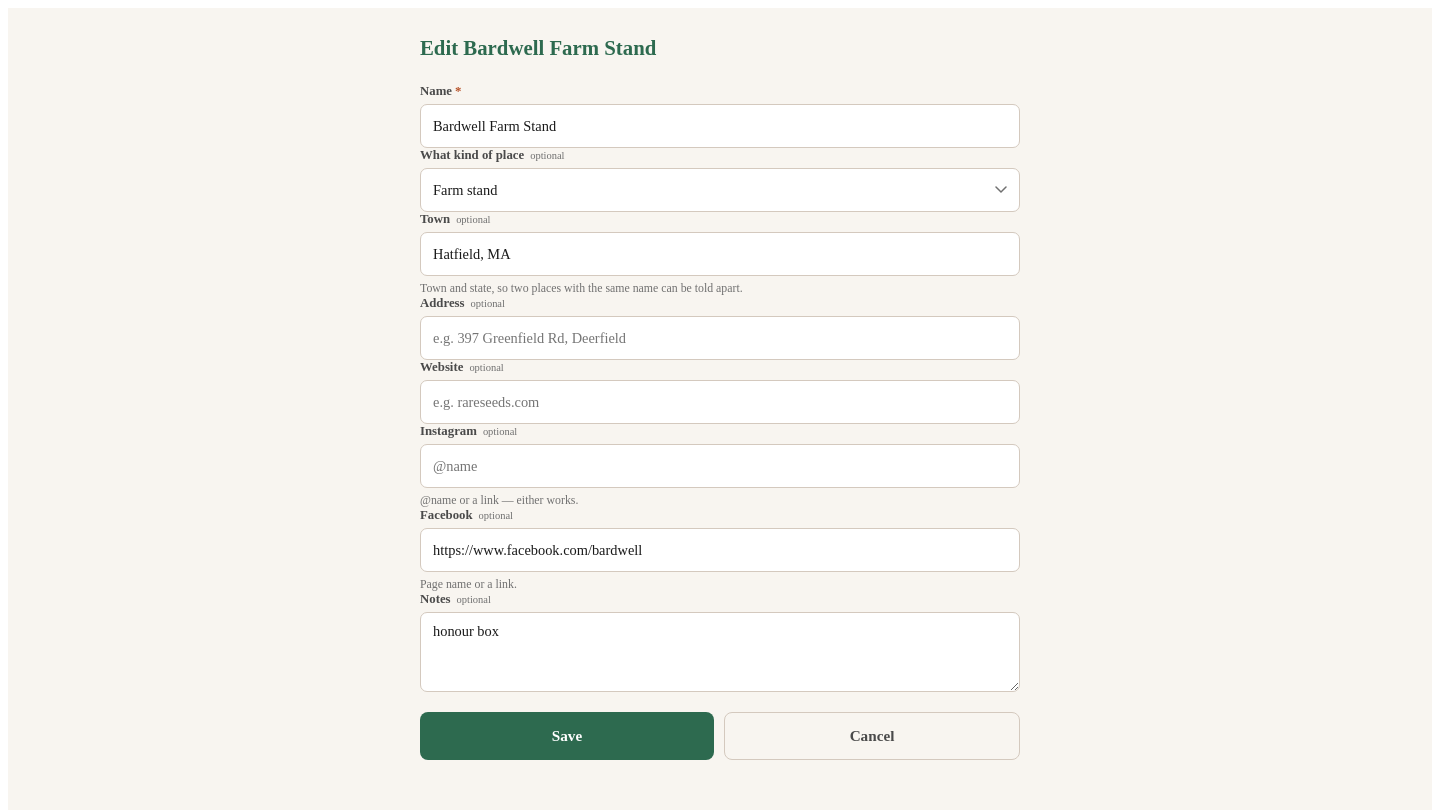
Test case: SourceEdit — save › a 400 on a link field is shown in plain words, never the field name
The width and height of the screenshot is (1440, 810).
Expected: the field with test id "source-edit-name" is shown, [420,104,1020,148]
Replace the text in the text box with test id "source-edit-notes" with "x" at (720, 652), box [420,612,1020,692]
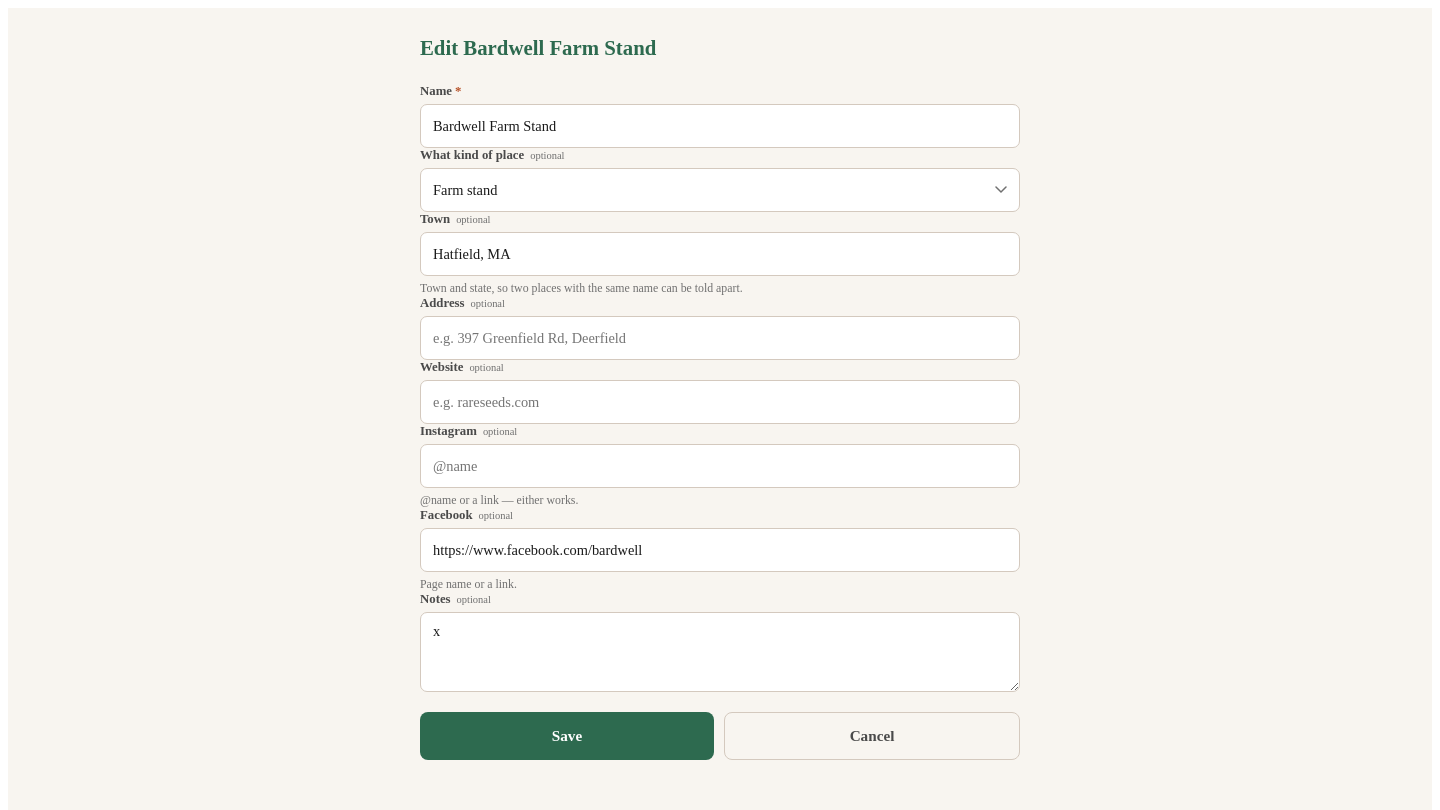
Click the button with test id "source-edit-save" at (567, 736), box [420,712,714,760]
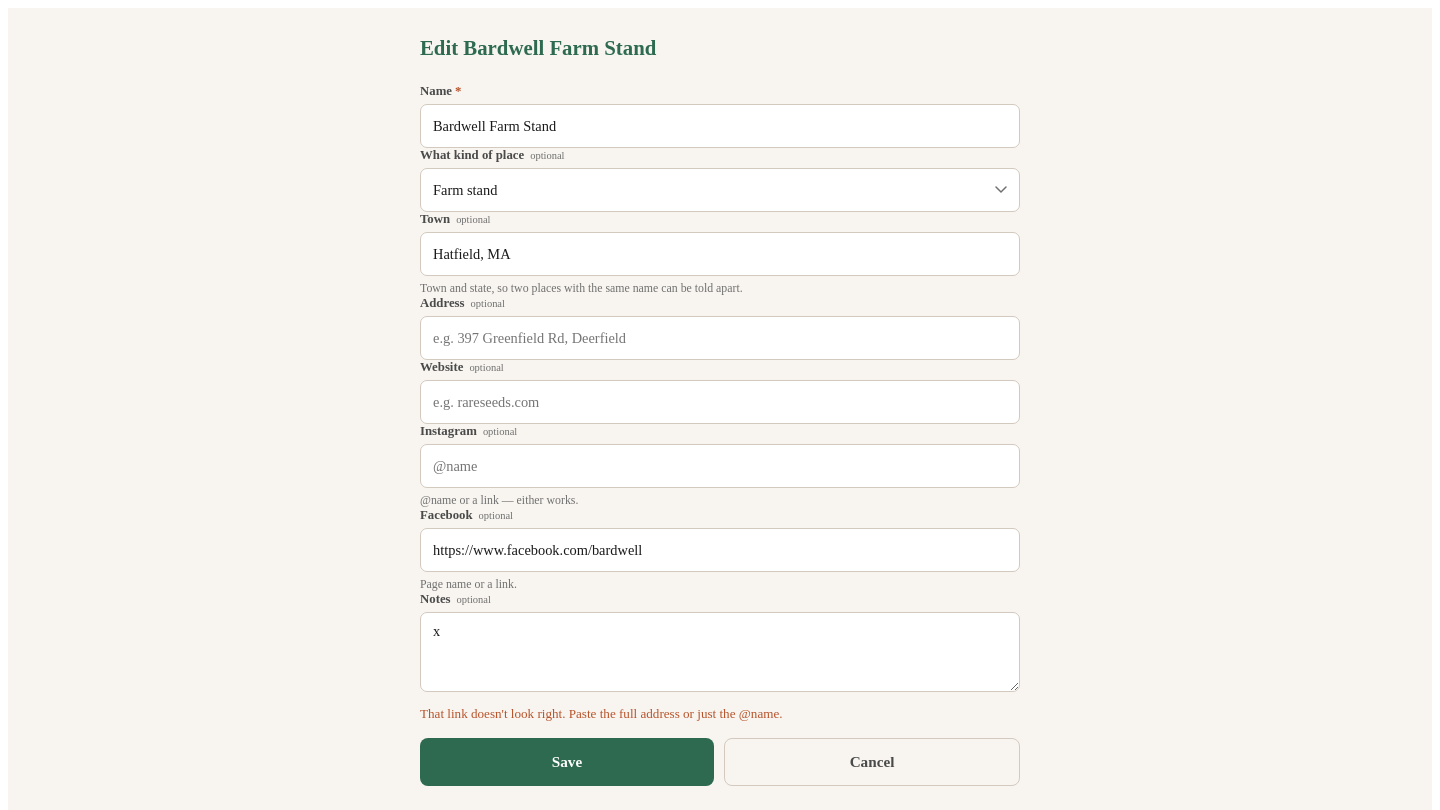
Expected: the message with test id "source-edit-error" reads "That link doesn't look right. Paste the full address or just the @name.", [420,706,782,721]
